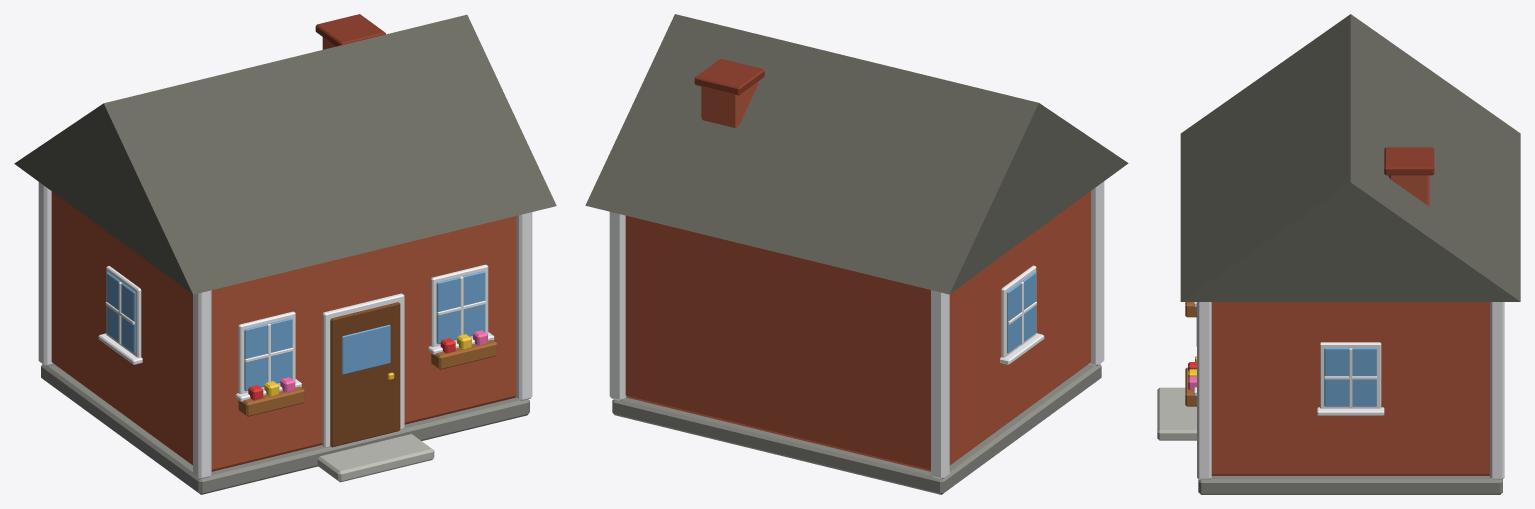
File: BrickHouse.fbx
3 views of the same model, side by side, from view 1: azimuth 30°, elevation 25°; view 2: azimuth 150°, elevation 25°; view 3: azimuth 270°, elevation 25° (orthographic). The views are drawn at different scales.
Visible parts, largest first — view 1: BrickHouse; view 2: BrickHouse; view 3: BrickHouse.
Part boxes in pixels (x1,y1,x2,y2): BrickHouse: (14,14,556,494); BrickHouse: (585,14,1128,494); BrickHouse: (1157,14,1520,494).
Size of the model in its own units: 13.6 by 12.1 by 12.4.
1 material, 1 textured.
